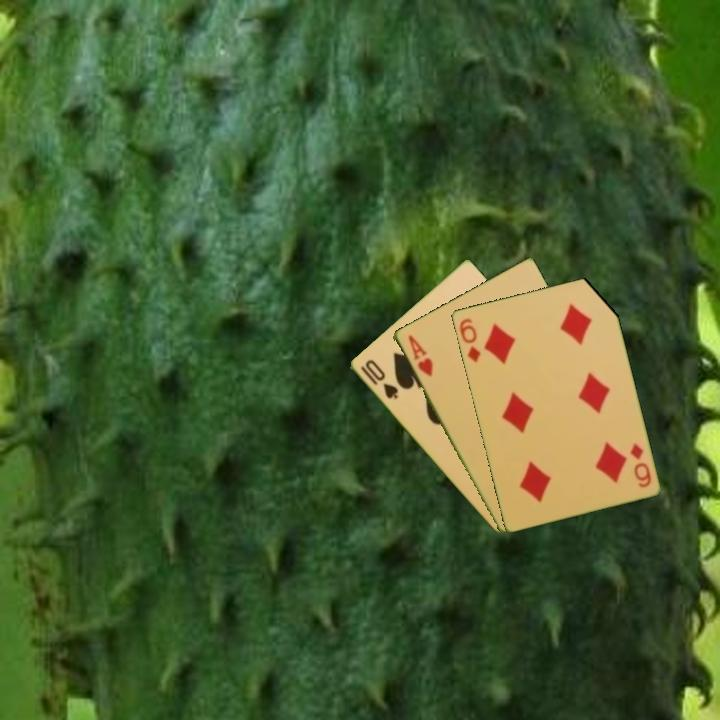10s: (356, 356, 401, 402)
6d: (455, 314, 483, 365), (626, 440, 654, 490)
Ah: (404, 331, 436, 380)
